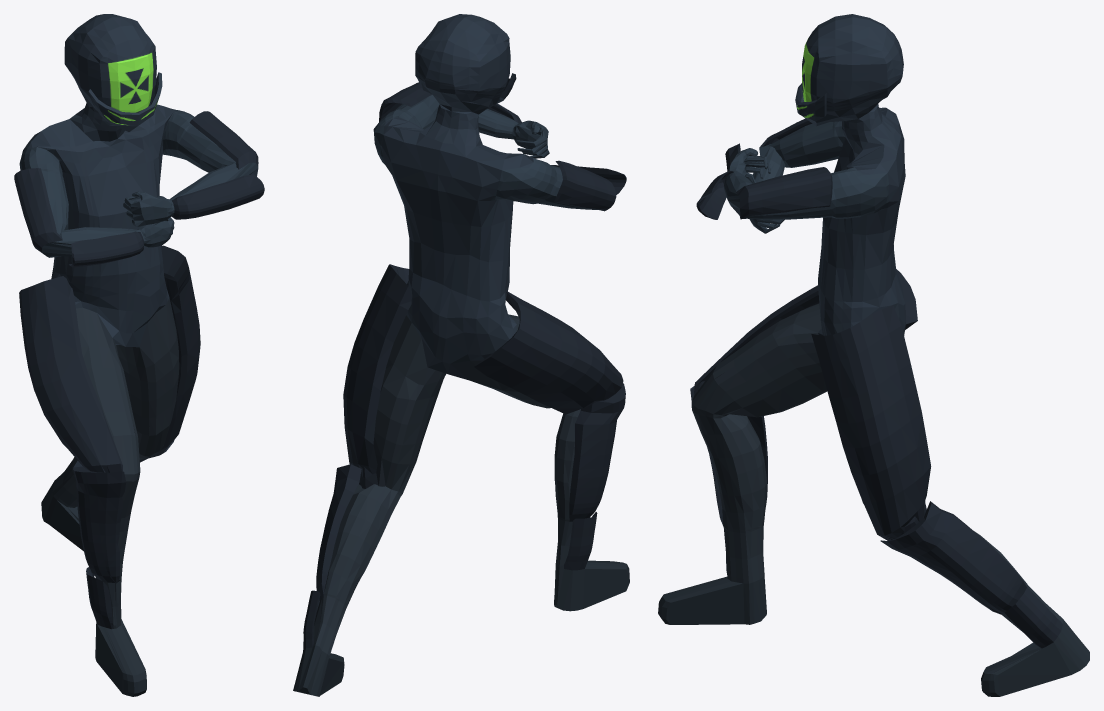
The model's file is Bastion_WL_000010.obj.
The picture shows the model from 3 angles, left to right: view 1: azimuth 30°, elevation 25°; view 2: azimuth 150°, elevation 25°; view 3: azimuth 270°, elevation 25°; orthographic projection. The views are drawn at different scales.
Parts seen in each view (by area): view 1: Cube.002; view 2: Cube.002; view 3: Cube.002.
Part boxes in pixels (bbox=[...]): Cube.002: bbox=[14, 14, 264, 696]; Cube.002: bbox=[293, 14, 629, 696]; Cube.002: bbox=[658, 14, 1089, 696].
Size of the model in its own units: 1.3 by 3.54 by 2.15.
